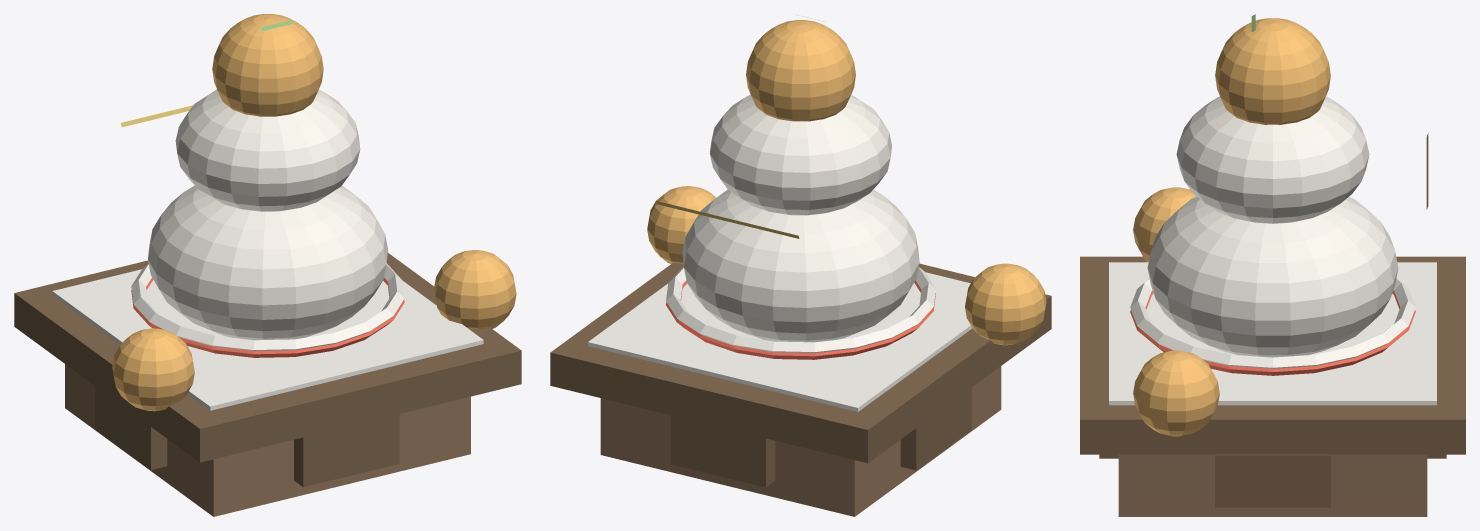
Rendered from oshogatsu_kazari.glb.
3 views of the same model, side by side, from view 1: azimuth 30°, elevation 25°; view 2: azimuth 150°, elevation 25°; view 3: azimuth 270°, elevation 25° (orthographic). The views are drawn at different scales.
Parts seen in each view (by area): view 1: oshogatsu_kazari; view 2: oshogatsu_kazari; view 3: oshogatsu_kazari.
Part boxes in pixels (left/top/right/bottom): oshogatsu_kazari: left=14, top=14, right=521, bottom=516; oshogatsu_kazari: left=550, top=14, right=1051, bottom=516; oshogatsu_kazari: left=1080, top=14, right=1465, bottom=516.
Bounding box in the file's own units: 0.4877 × 0.4913 × 0.4.
